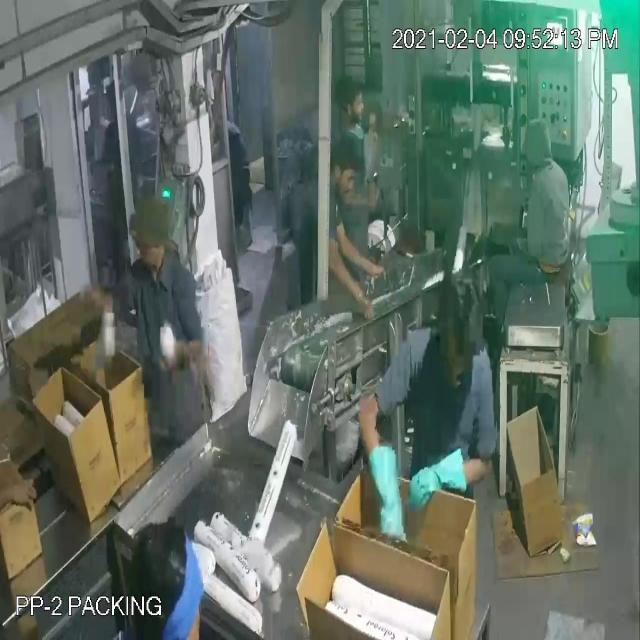Gloves: (17, 71, 439, 502)
